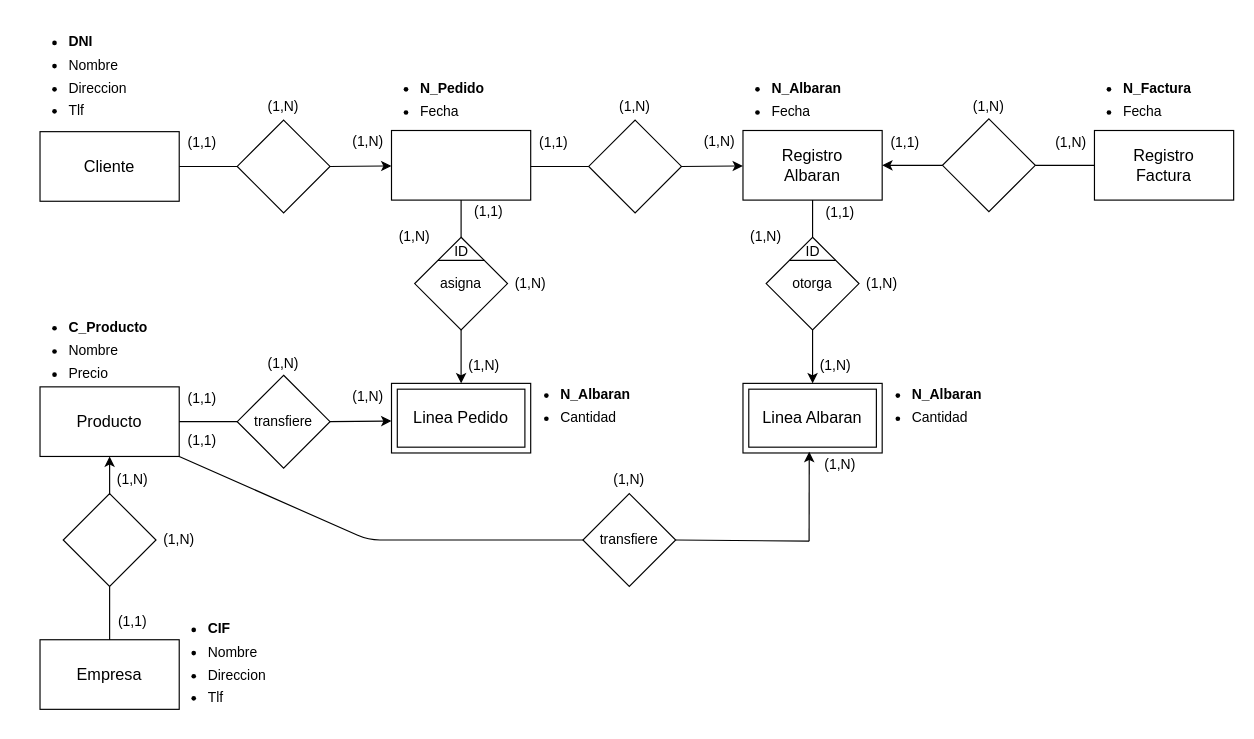
The diagram is 1254 pixels wide and 739 high, and some of its shapes have lost their labels. The shapes that lost their labels are listed below. From the top down, each one's centre as x and y in pixels, then its label:
the point at 283,166: solicita
the point at 460,164: Registro Pedido
the point at 635,166: genera
the point at 988,165: crea
the point at 109,539: vende
